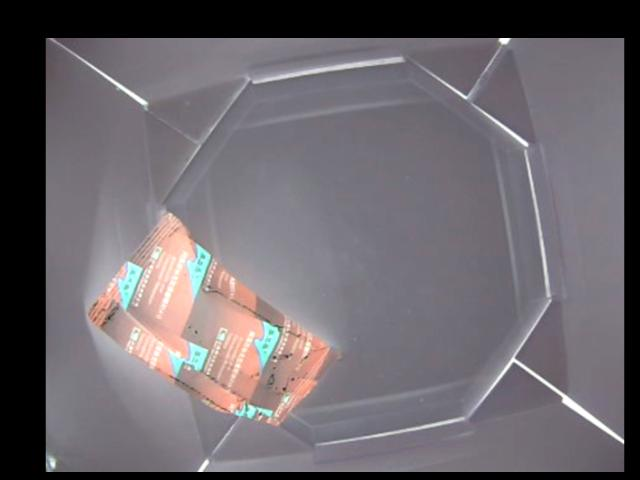Medicine: (84, 211, 342, 424)
